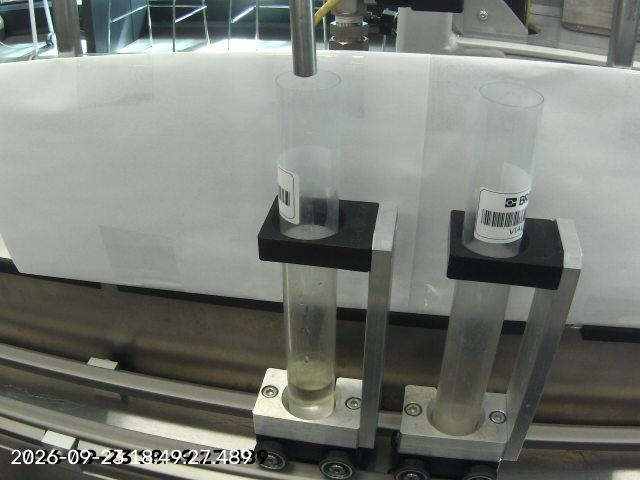vial: (429, 81, 546, 436), (271, 66, 341, 421)
